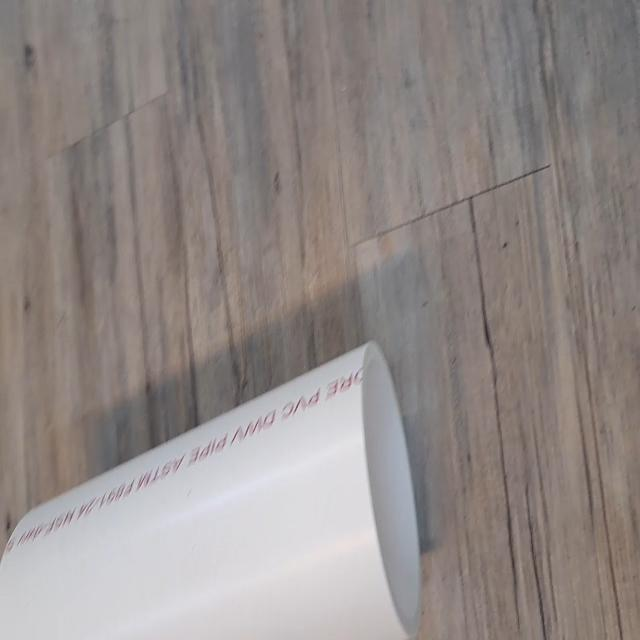CORAL: (0, 326, 426, 640)
